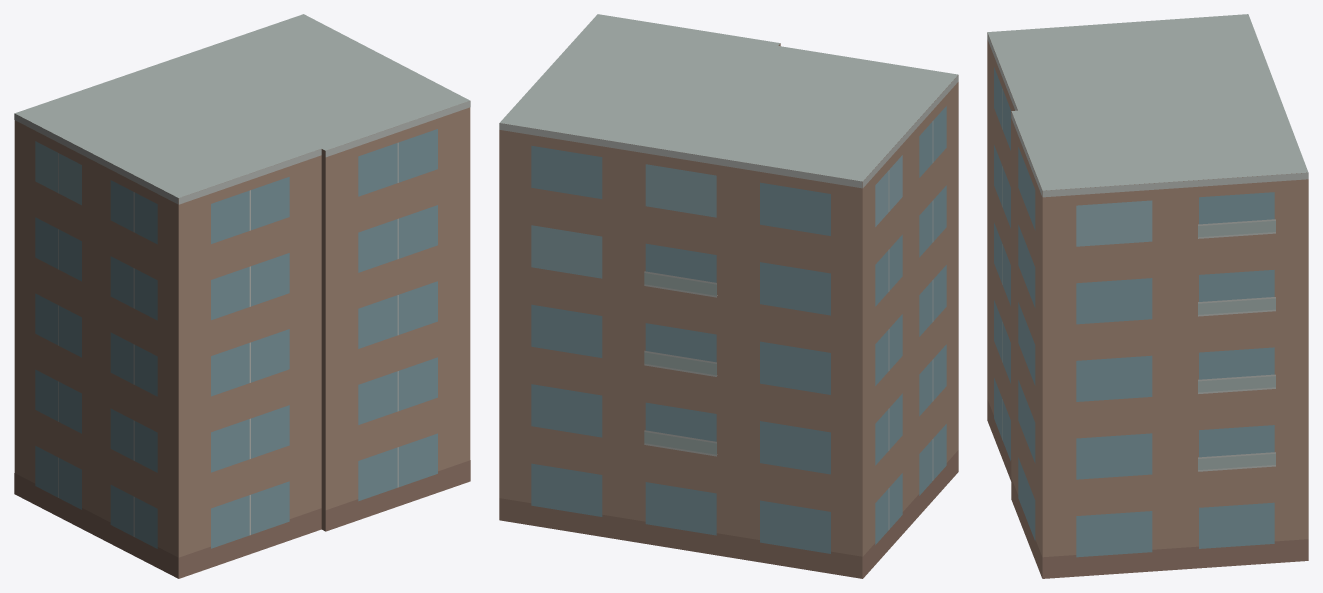
The model's file is survey-upis-33023969.glb.
3 views of the same model, side by side, from view 1: azimuth 30°, elevation 25°; view 2: azimuth 150°, elevation 25°; view 3: azimuth 270°, elevation 25° (orthographic). The views are drawn at different scales.
Parts seen in each view (by area): view 1: survey-upis-33023969.tmp; view 2: survey-upis-33023969.tmp; view 3: survey-upis-33023969.tmp.
Part boxes in pixels (x1,y1,x2,y2): survey-upis-33023969.tmp: [14, 14, 470, 578]; survey-upis-33023969.tmp: [499, 14, 958, 578]; survey-upis-33023969.tmp: [987, 14, 1308, 578].
Bounding box in the file's own units: 13.77 × 14.1 × 10.58.
